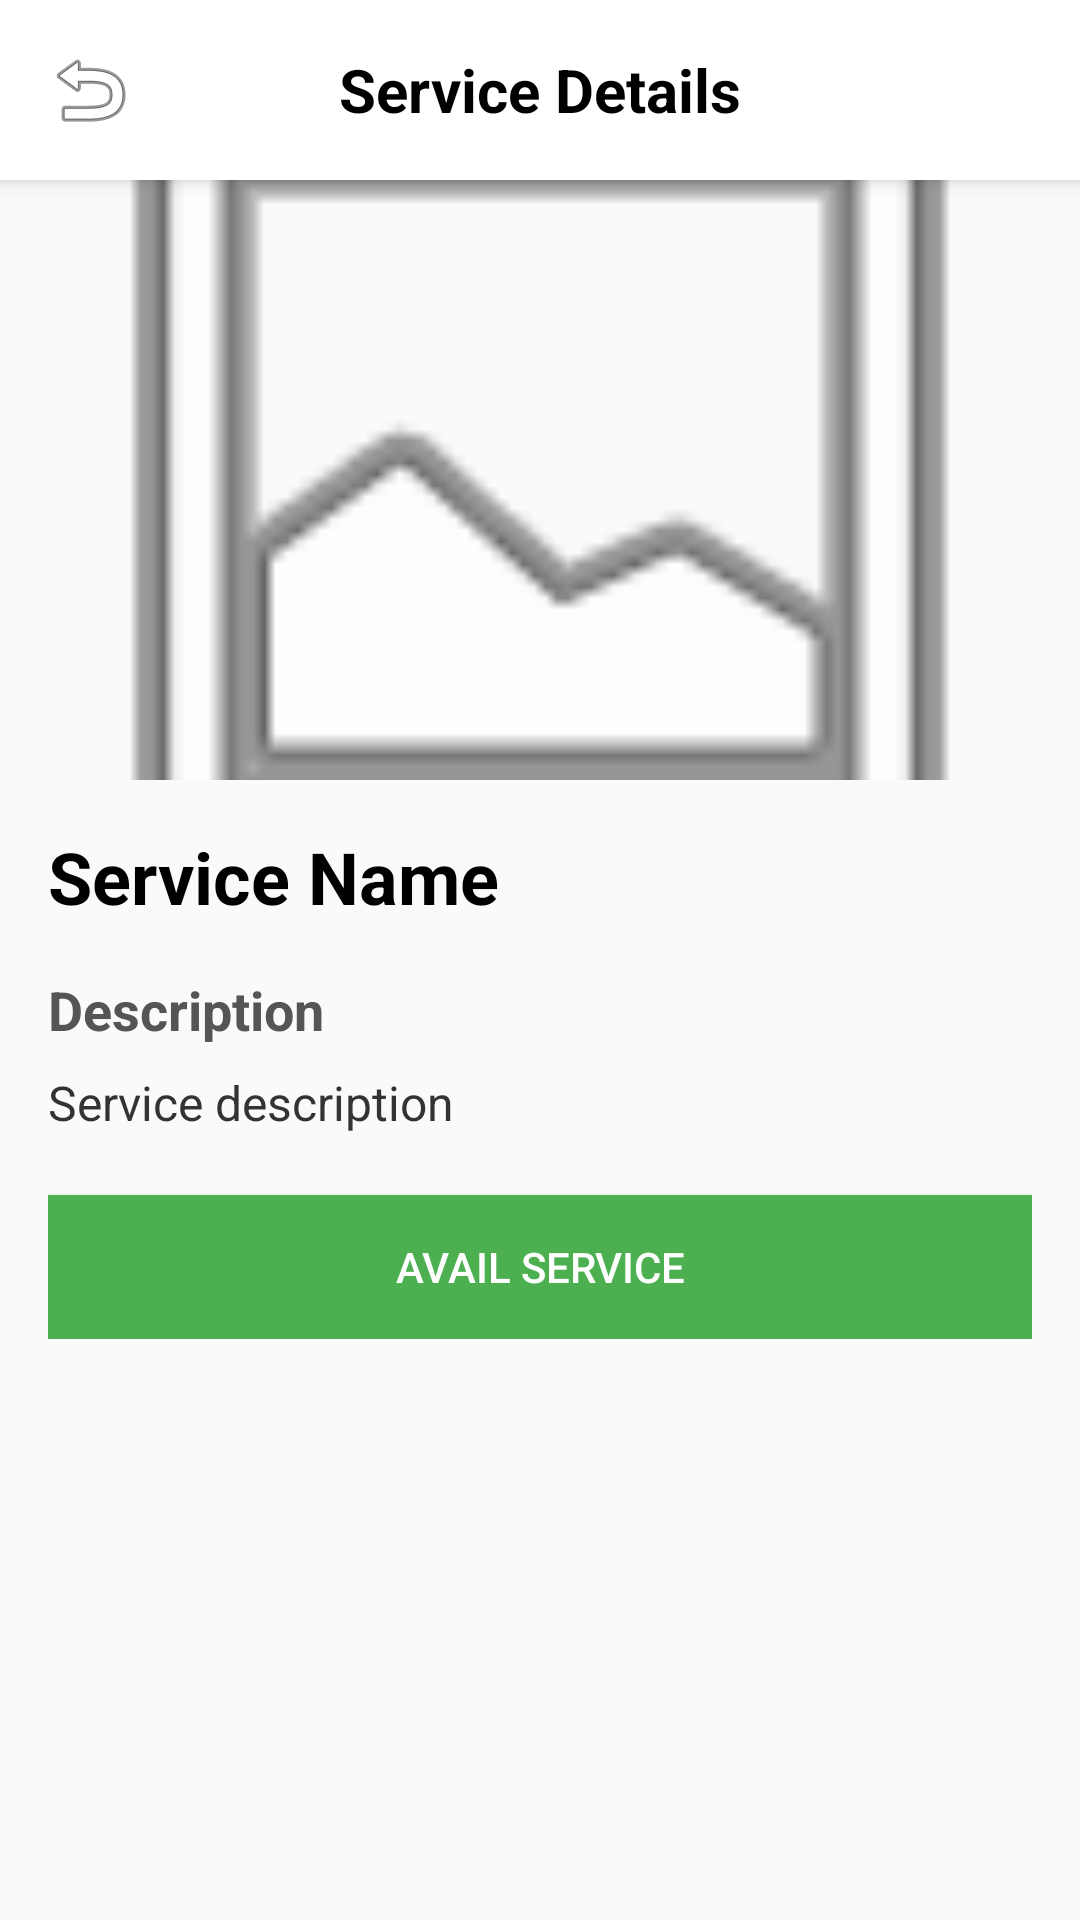

Screen size 1080x1920. Icon name, then its box in pixels as box=[x1, y1, x2, y2]:
revert: box=[57, 59, 126, 122]
